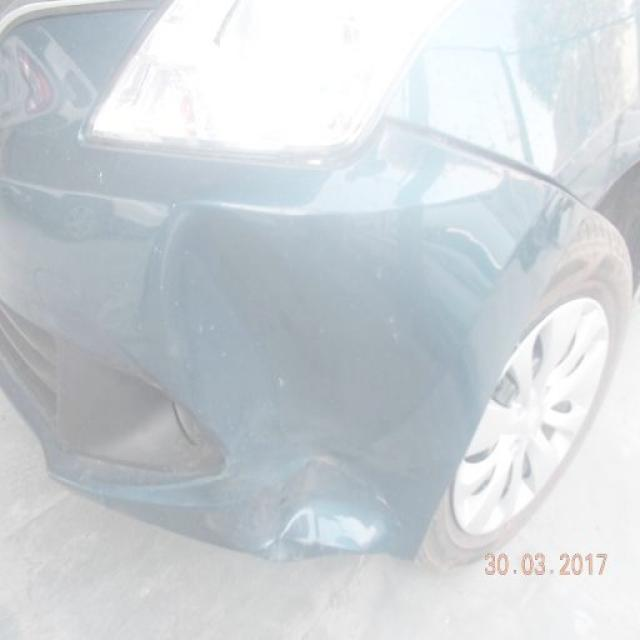car damage: (162, 210, 427, 565)
